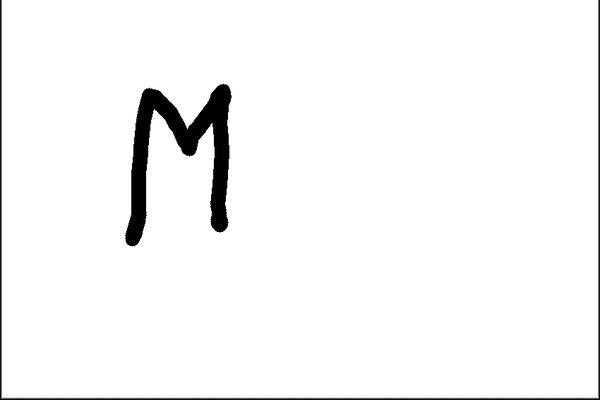M: (123, 81, 234, 243)
